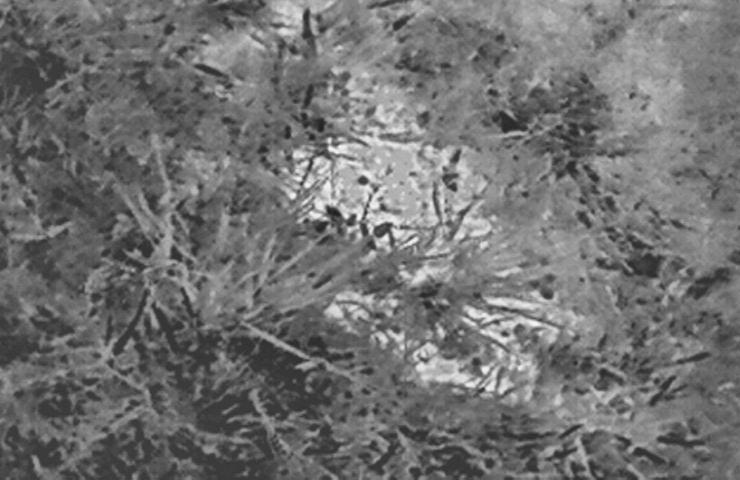landmines: (287, 88, 510, 272)
